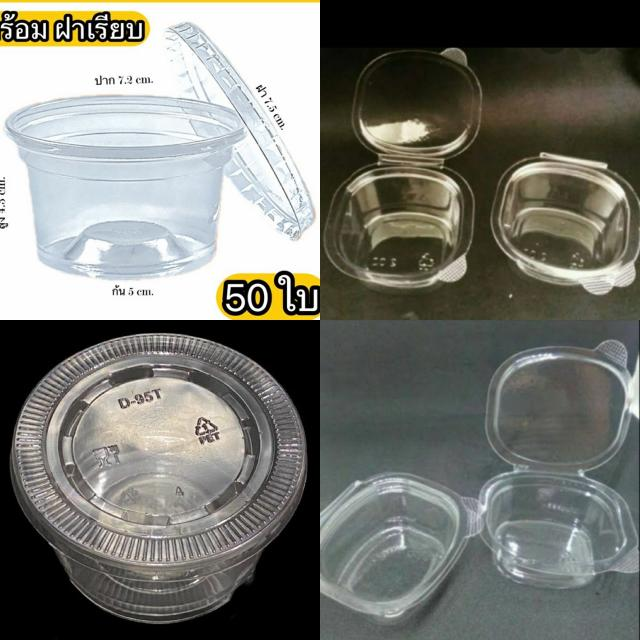Single-Use-Plastic: (11, 335, 305, 622), (6, 95, 245, 279), (479, 340, 638, 588), (324, 50, 482, 289), (165, 22, 315, 240), (321, 472, 480, 624), (491, 152, 640, 294)
